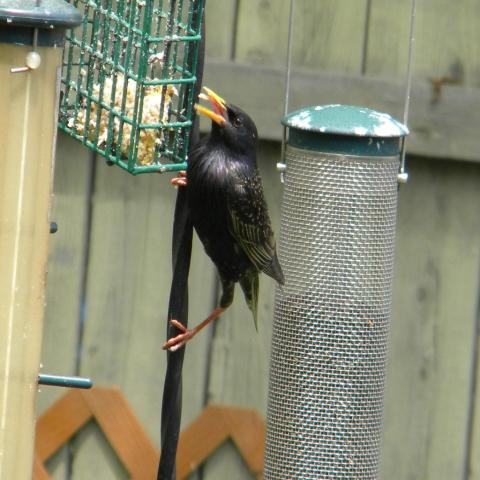bird: (162, 84, 287, 351)
